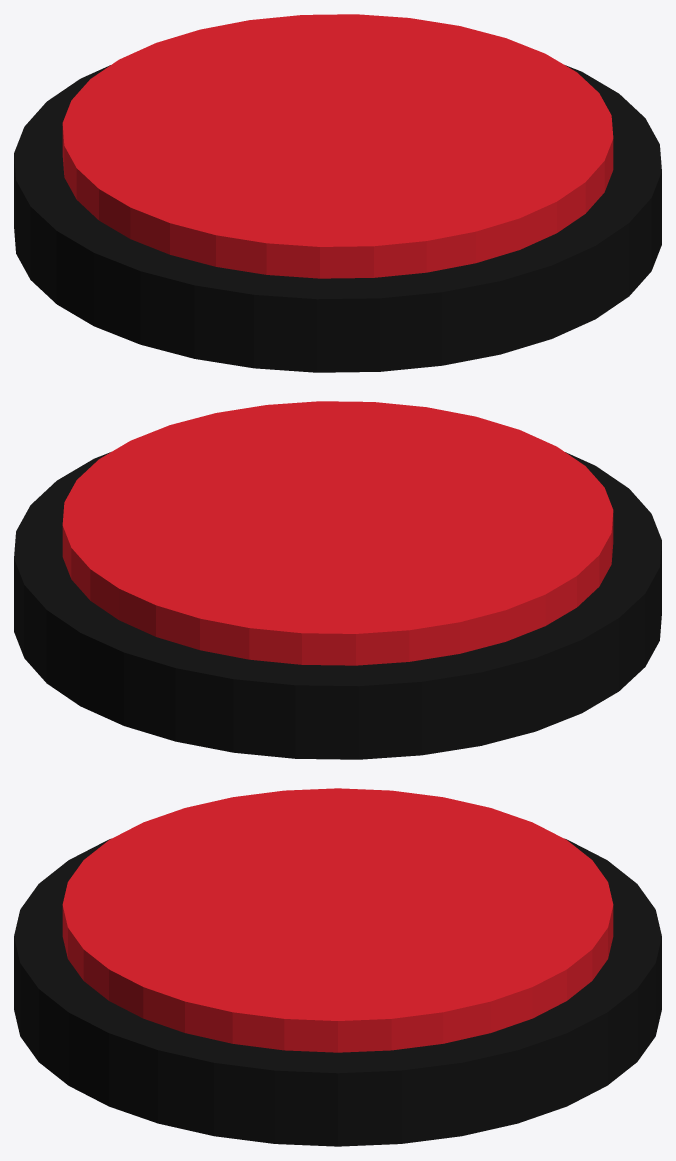
The model's file is PressedButton.glb.
3 views of the same model, one above another, from view 1: azimuth 30°, elevation 25°; view 2: azimuth 150°, elevation 25°; view 3: azimuth 270°, elevation 25° (orthographic).
Visible parts, largest first — view 1: Cylinder.001, Cylinder; view 2: Cylinder.001, Cylinder; view 3: Cylinder.001, Cylinder.
Boxes of the visible parts, <box> form: Cylinder.001: <box>62,14,613,278</box>; Cylinder: <box>14,65,661,372</box>; Cylinder.001: <box>62,401,613,665</box>; Cylinder: <box>14,452,661,759</box>; Cylinder.001: <box>62,788,613,1052</box>; Cylinder: <box>14,838,661,1146</box>.
Bounding box in the file's own units: 8 × 1.43 × 8.
